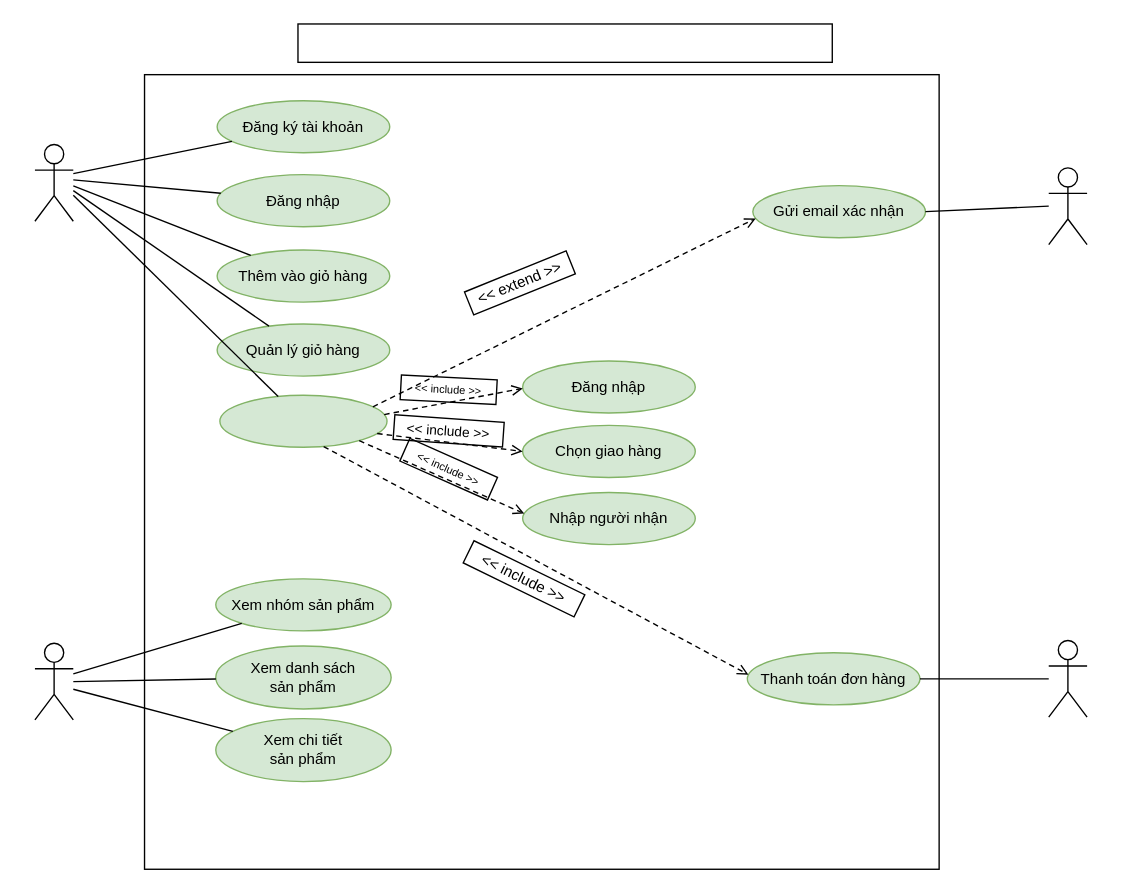
Image size: 1137x893. Some labels were removed from this diagram. Each missing label, with the centre of its shape:
Dịch vụ email: [1067,205]
Dịch vụ thanh toán trực tuyến: [1067,678]
HỆ THỐNG e-SHOPPING: [564,42]
Hệ thống quản lý: [53,681]
Khách hàng: [53,182]
Đặt hàng: [303,420]
